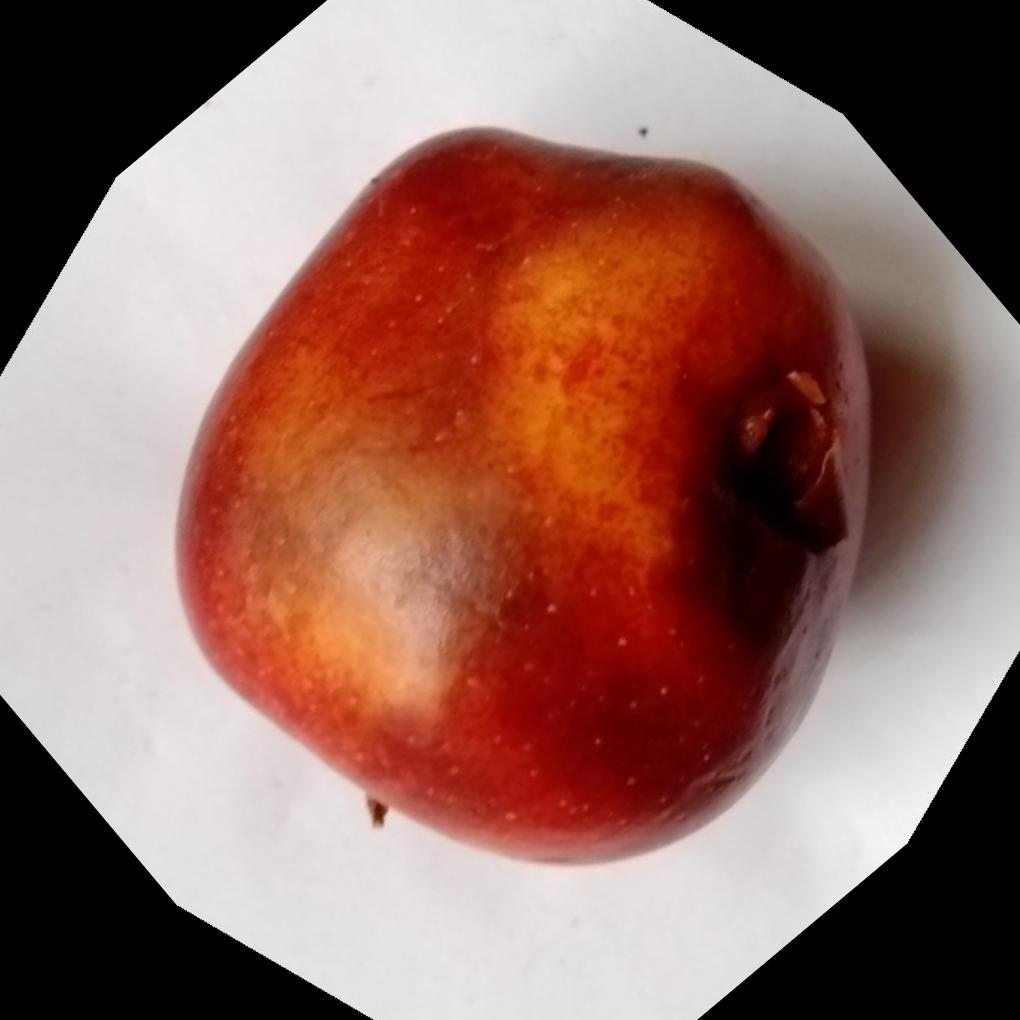FreshOrange: (172, 120, 872, 866)
